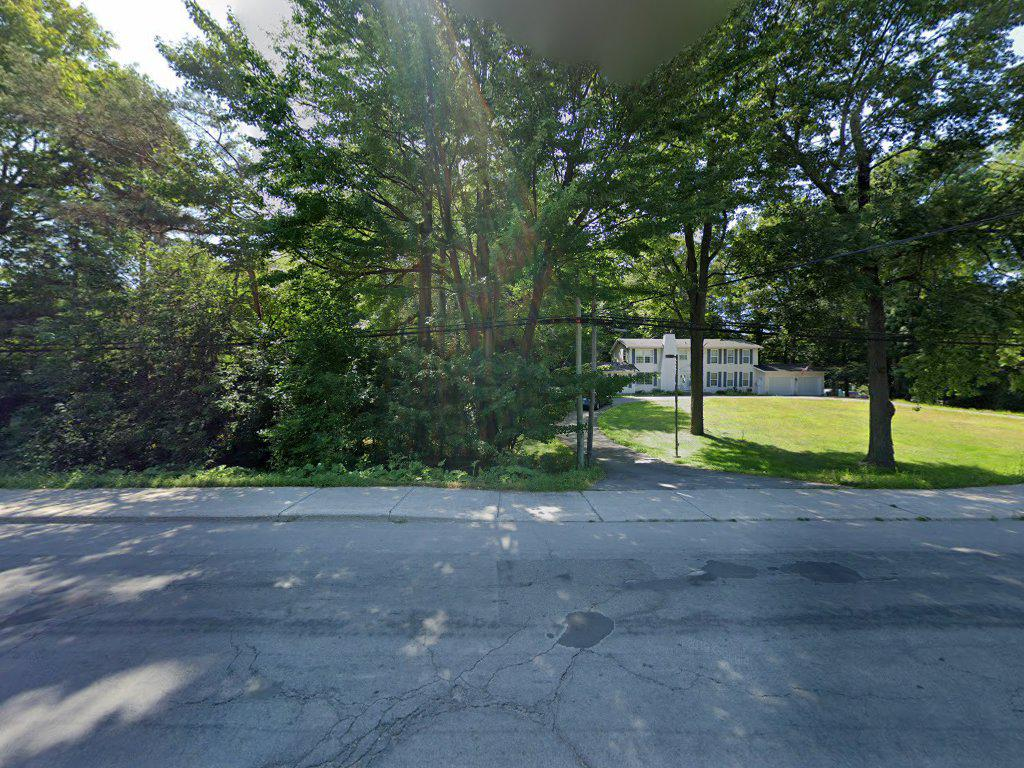trunk: (856, 227, 899, 478), (682, 225, 713, 447)
